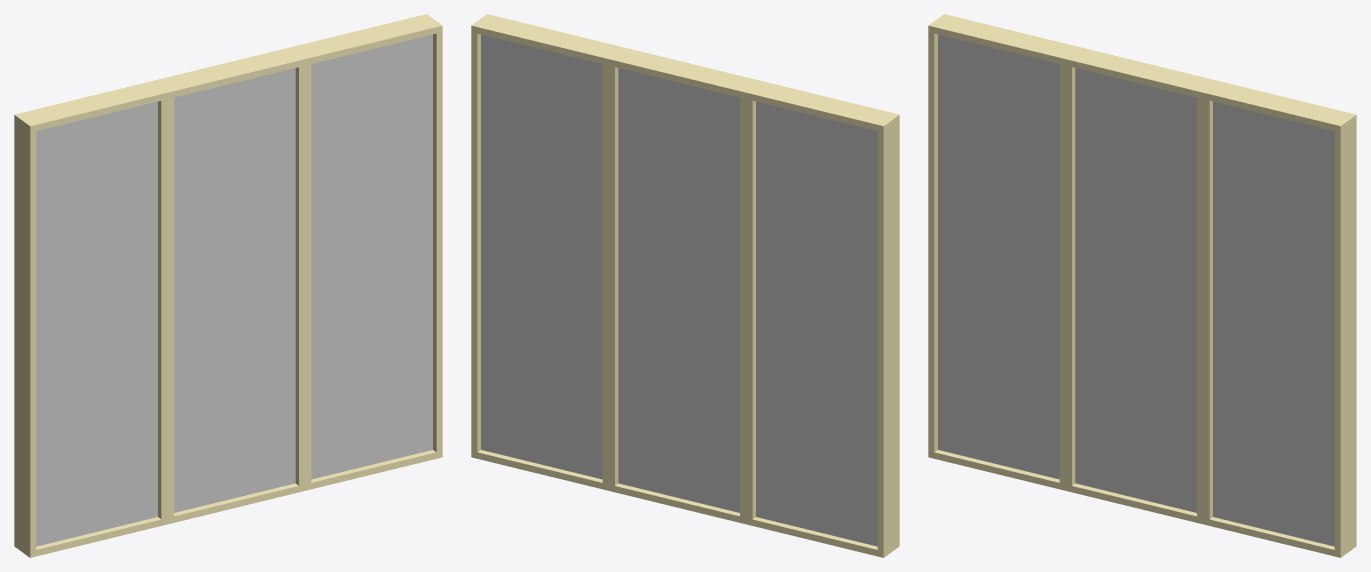
The model's file is WindowOneSideWall.fbx.
3 views of the same model, side by side, from view 1: azimuth 30°, elevation 25°; view 2: azimuth 150°, elevation 25°; view 3: azimuth 330°, elevation 25° (orthographic).
Parts seen in each view (by area): view 1: Glass, Frame; view 2: Glass, Frame; view 3: Glass, Frame.
Boxes of the visible parts, x1,y1,x2,y2 form: Glass: [36, 34, 432, 546]; Frame: [14, 14, 442, 557]; Glass: [481, 34, 877, 546]; Frame: [471, 14, 899, 557]; Glass: [938, 34, 1334, 546]; Frame: [928, 14, 1356, 557].
Bounding box in the file's own units: 600 × 600 × 40.
